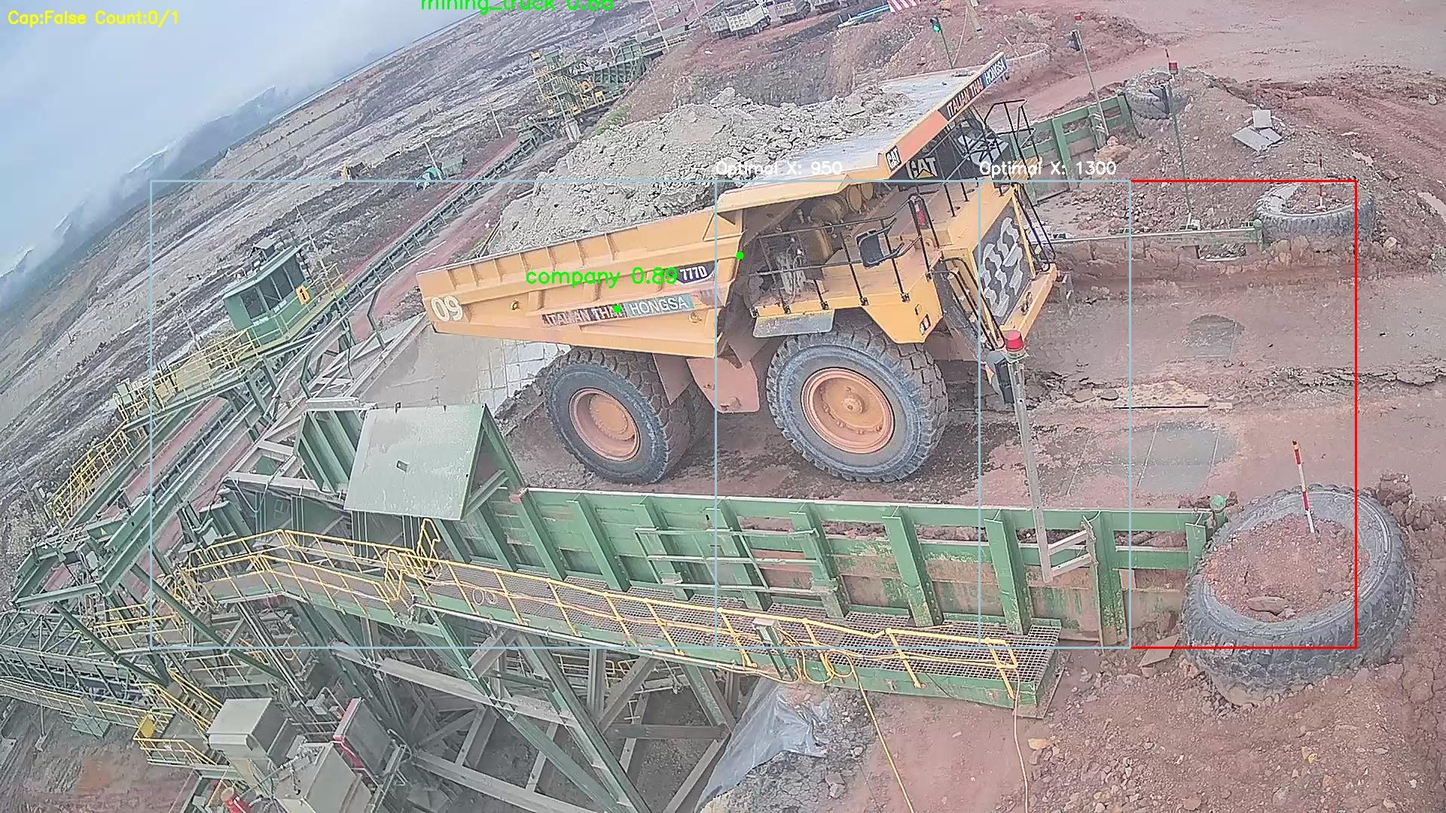company: (533, 291, 695, 328)
full_load: (536, 83, 789, 232)
mining_truck: (411, 41, 1083, 480)
tail_number: (422, 284, 472, 330)
truck_size: (668, 259, 715, 287)
